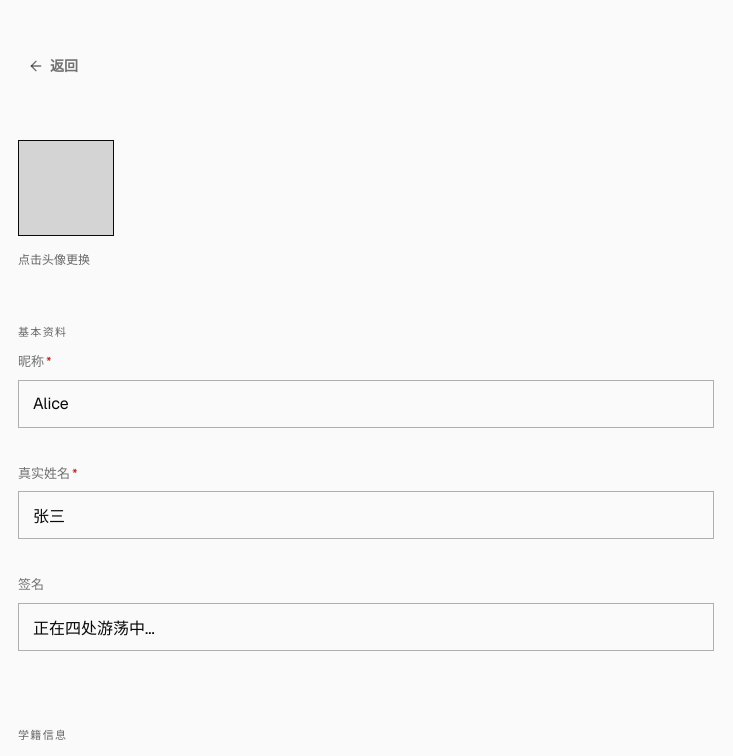
Test case: EditPage › shows validation error when nickname is cleared
This screenshot has width=733, height=756.
Clear the field labelled "昵称": point(366, 404) x1=18 y1=380 x2=714 y2=428
(page scrolled)
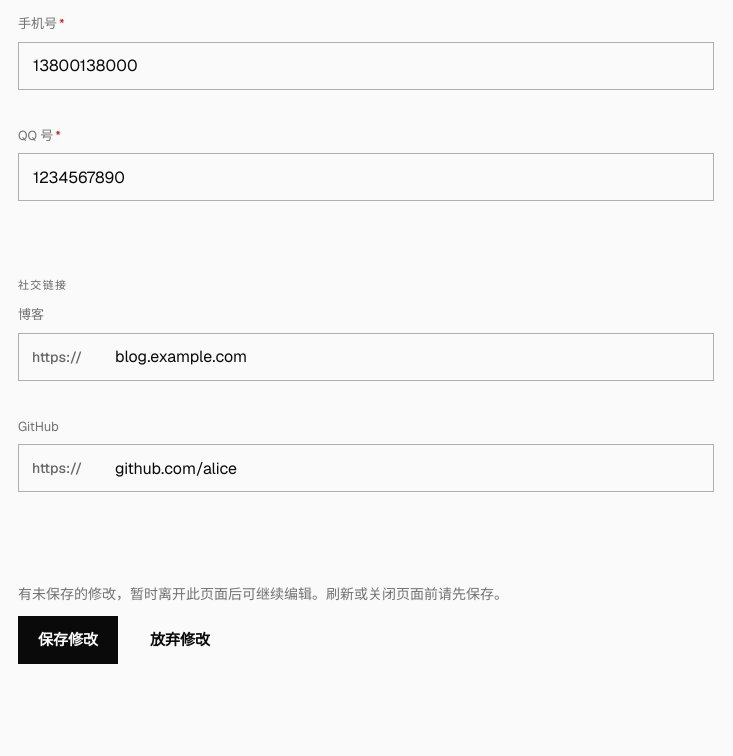
Click the button "保存修改": point(68, 640) x1=18 y1=616 x2=118 y2=664
(page scrolled)
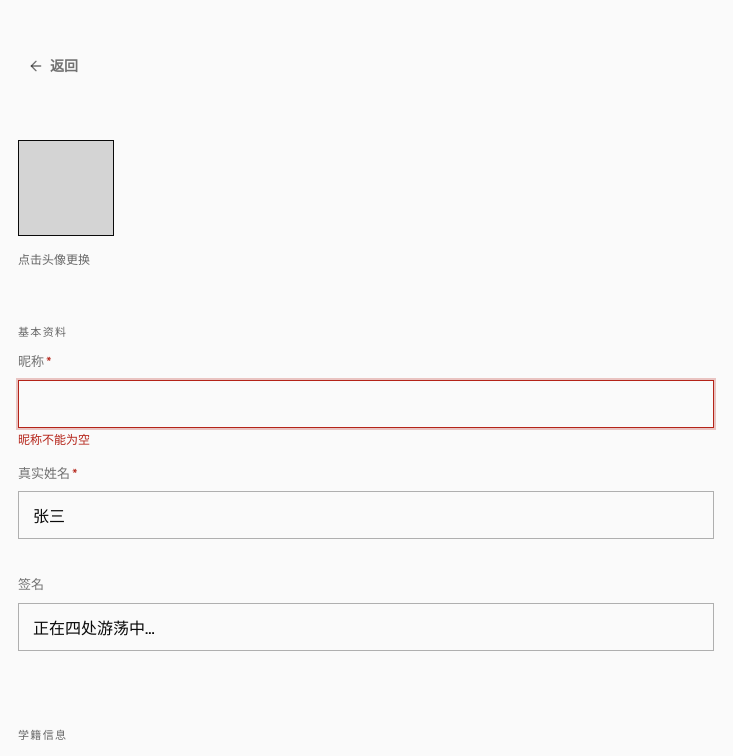
Now the text "昵称不能为空" is shown, box x1=18 y1=432 x2=90 y2=448
